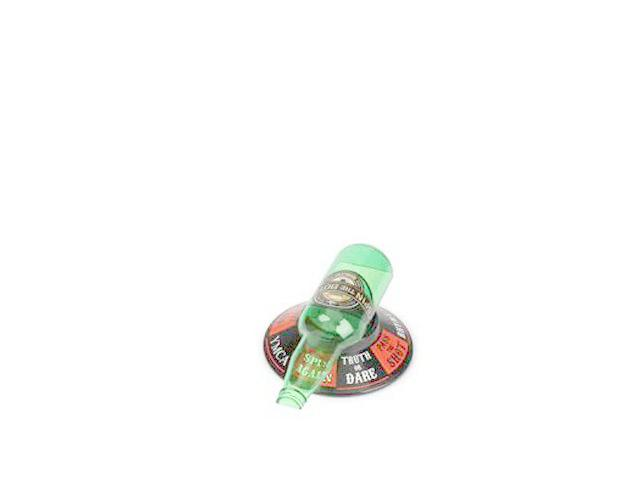beer: (277, 244, 394, 409)
